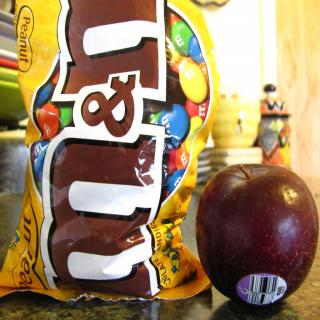Apple: (198, 162, 314, 306)
